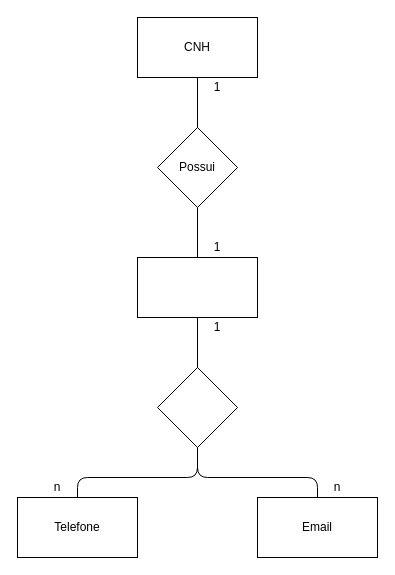
This 395x575 diagram has some shape labels left out. Here are the shapes that lost their labels. From the top down, the centre of each, then its label:
At point 197,287: "Pessoa".
At point 197,407: "Tem".
